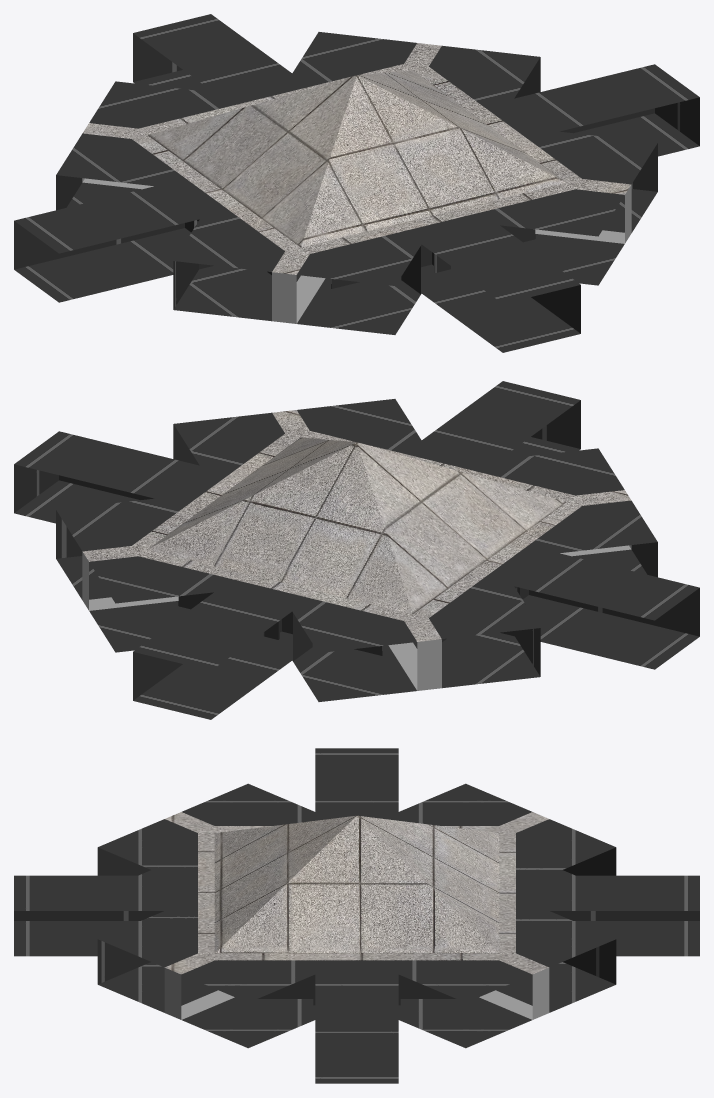
File: MuseumBuildingFinal.fbx
3 renders of one model, top to bottom at view 1: azimuth 30°, elevation 25°; view 2: azimuth 150°, elevation 25°; view 3: azimuth 270°, elevation 25°, orthographic. The views are drawn at different scales.
Parts seen in each view (by area): view 1: Ceiling (×4), Pyramid, Floor (×4), HallwayCeilings, NorthWingWalls (×4), NorthEastWingWalls (×3), FloorX, WallPatch1, NorthWestWalls, NorthWing1_NorthWingHallway_pPlane18; view 2: Ceiling (×4), Pyramid, Floor (×4), HallwayCeilings, NorthWingWalls (×4), NorthWestWalls (×3), FloorX, WallPatch, NorthEastWingWalls, NorthWing1_NorthWingHallway_pPlane18; view 3: Ceiling (×4), Pyramid, Floor (×3), HallwayCeilings, NorthWingWalls (×2), NorthWestWalls (×2), NorthEastWingWalls (×2), NorthWing1_NorthWingHallway_pPlane18, FloorX, WallPatch2, WallPatch3.
Part boxes in pixels (box(x1,y1,x2,y2)): Ceiling (×4): box(14, 14, 699, 303); Pyramid: box(147, 70, 565, 247); Floor (×4): box(14, 70, 699, 352); HallwayCeilings: box(82, 43, 631, 274); NorthWingWalls (×4): box(14, 33, 699, 333); NorthEastWingWalls (×3): box(56, 143, 657, 294); FloorX: box(82, 178, 624, 323); WallPatch1: box(272, 272, 296, 323); NorthWestWalls: box(173, 261, 213, 309); NorthWing1_NorthWingHallway_pPlane18: box(331, 225, 535, 288); Ceiling (×4): box(14, 381, 699, 670); Pyramid: box(148, 437, 566, 614); Floor (×4): box(14, 437, 699, 719); HallwayCeilings: box(82, 410, 631, 641); NorthWingWalls (×4): box(14, 400, 699, 700); NorthWestWalls (×3): box(56, 510, 657, 661); FloorX: box(89, 545, 631, 690); WallPatch: box(417, 639, 441, 690); NorthEastWingWalls: box(500, 628, 540, 676); NorthWing1_NorthWingHallway_pPlane18: box(178, 592, 382, 655); Ceiling (×4): box(14, 748, 699, 1038); Pyramid: box(214, 815, 499, 953); Floor (×3): box(14, 870, 699, 1083); HallwayCeilings: box(165, 812, 548, 974); NorthWingWalls (×2): box(14, 911, 699, 920); NorthWestWalls (×2): box(97, 847, 616, 984); NorthEastWingWalls (×2): box(97, 847, 616, 984); NorthWing1_NorthWingHallway_pPlane18: box(258, 975, 455, 998); FloorX: box(181, 990, 532, 1019); WallPatch2: box(532, 968, 549, 1019); WallPatch3: box(164, 968, 181, 1019).
Bounding box in the file's own units: 41 × 8.12 × 41.
